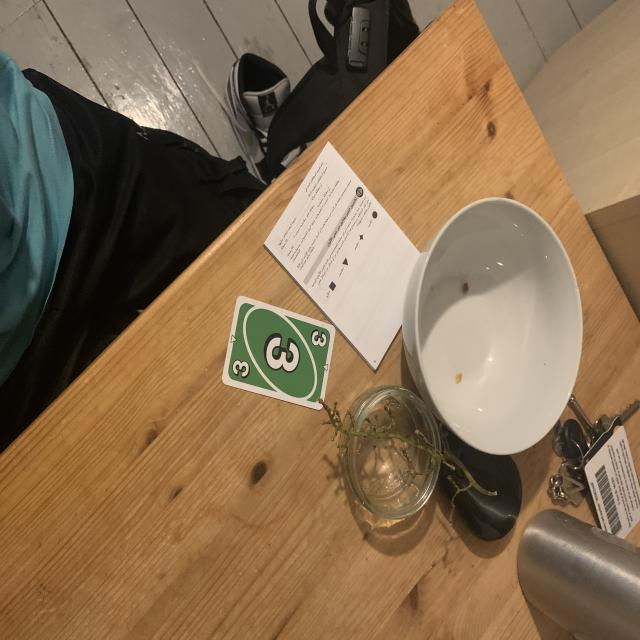lgreen-3: (231, 358, 253, 380)
